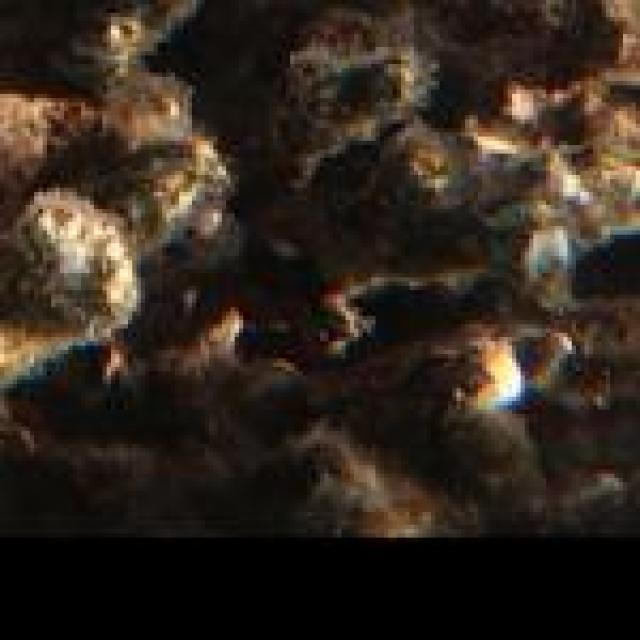Dead Coral: (0, 197, 160, 394), (283, 34, 449, 189)
